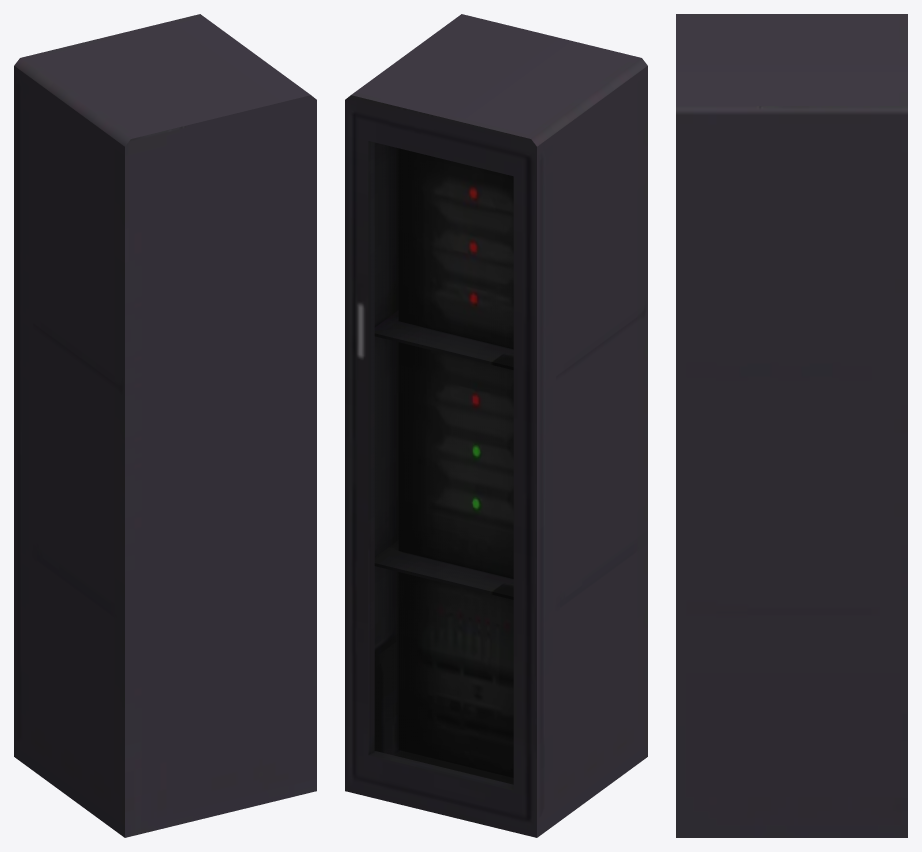
The model's file is server-tower.glb.
3 views of the same model, side by side, from view 1: azimuth 30°, elevation 25°; view 2: azimuth 150°, elevation 25°; view 3: azimuth 270°, elevation 25° (orthographic). The views are drawn at different scales.
Visible parts, largest first — view 1: Object_3; view 2: Object_3; view 3: Object_3.
Boxes of the visible parts, box(x1,y1,x2,y2) form: Object_3: box(14, 14, 316, 837); Object_3: box(345, 14, 647, 837); Object_3: box(676, 14, 907, 837).
Bounding box in the file's own units: 0.6014 × 2.09 × 0.6014.
2 materials, 1 textured.
